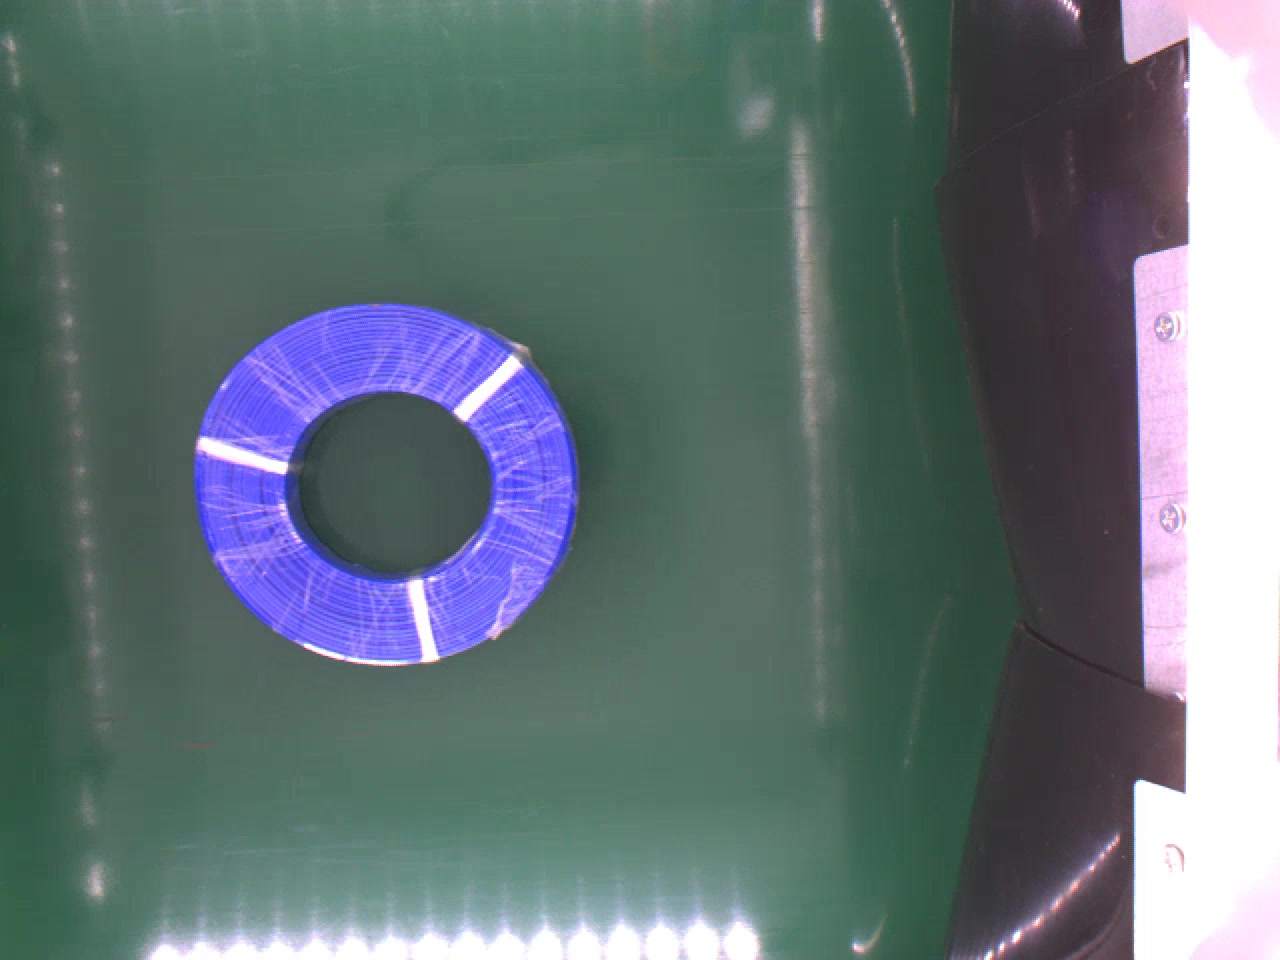blue: (191, 298, 585, 671)
